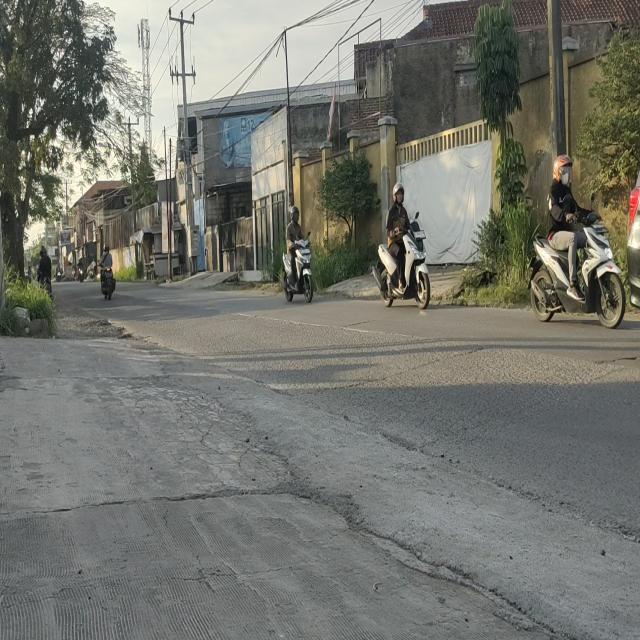helmet: (554, 153, 573, 184), (393, 182, 404, 205), (290, 206, 300, 222)
